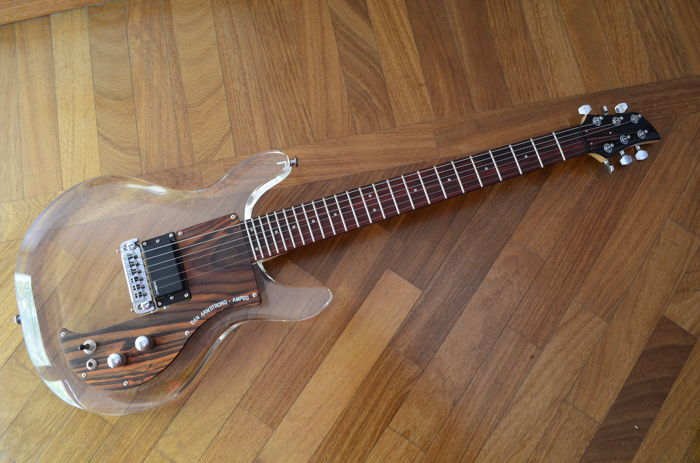ElectricGuitar: (9, 98, 661, 420)
